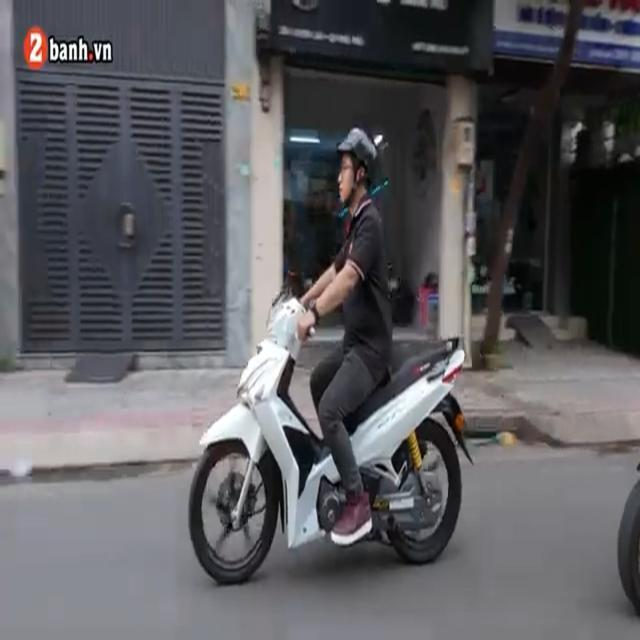motorcycle: (186, 286, 482, 589)
